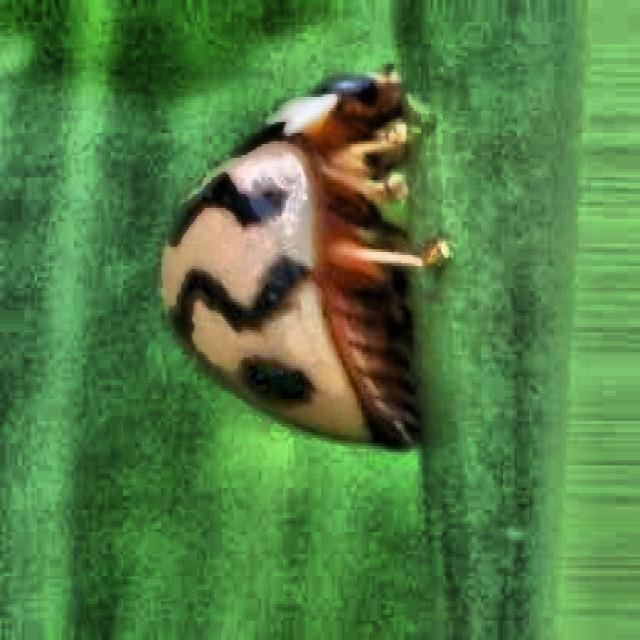Asian-Lady-beetle: (117, 36, 512, 540)
